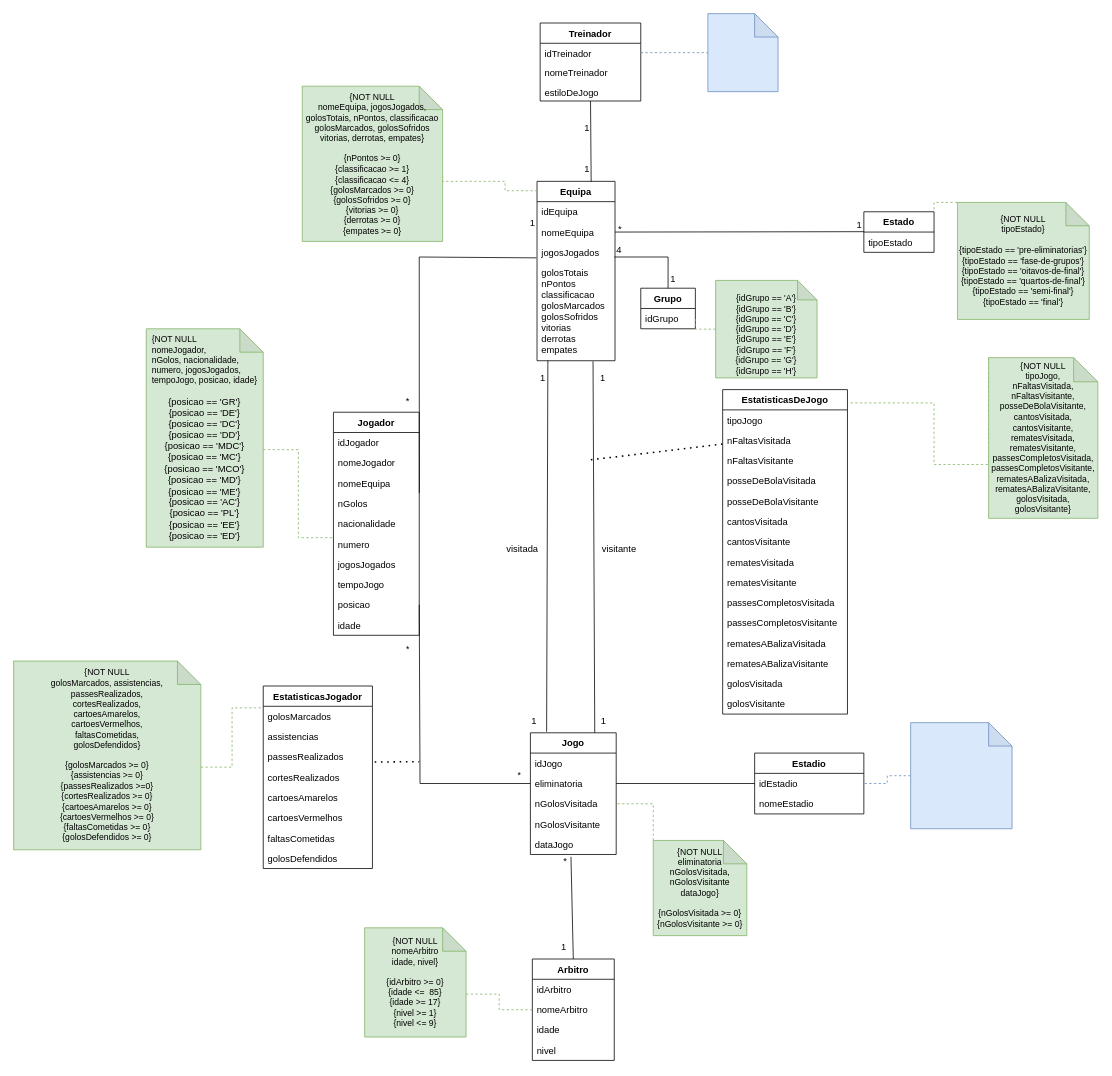
This 1112x1076 diagram has some shape labels left out. Here are the shapes that lost their labels. From the top down, the centre of each, then its label:
At point (742, 52): "{NOT NULL nomeTreinador, estiloDeJogo}".
At point (961, 775): "{NOT NULL nomeEstadio}".
